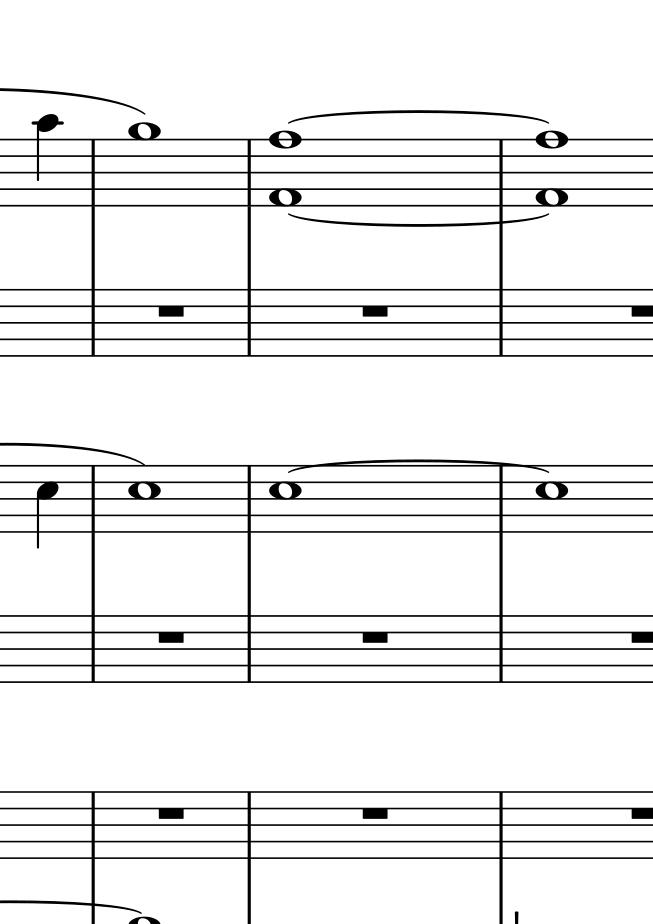1_1_8: (266, 129, 303, 208), (533, 128, 570, 207)
1_5: (268, 463, 303, 536), (536, 463, 569, 534), (128, 465, 161, 533)
1_9: (126, 121, 162, 208)
4_10: (32, 112, 64, 208)
4_5: (35, 462, 60, 551)
Rests1: (349, 802, 392, 821), (154, 300, 186, 323), (156, 803, 187, 824), (359, 303, 389, 321), (361, 627, 389, 646), (156, 627, 184, 645)
Single_barline: (492, 139, 510, 221), (241, 139, 260, 206), (240, 466, 259, 532), (84, 466, 102, 532), (492, 468, 510, 532), (85, 791, 101, 860), (85, 615, 101, 682), (85, 139, 101, 205), (85, 289, 101, 355), (241, 616, 257, 682), (493, 792, 509, 858), (241, 290, 257, 355), (493, 616, 508, 682), (494, 288, 508, 355), (242, 792, 256, 858)
Slur: (287, 212, 556, 230), (286, 107, 555, 124), (284, 456, 549, 472)
